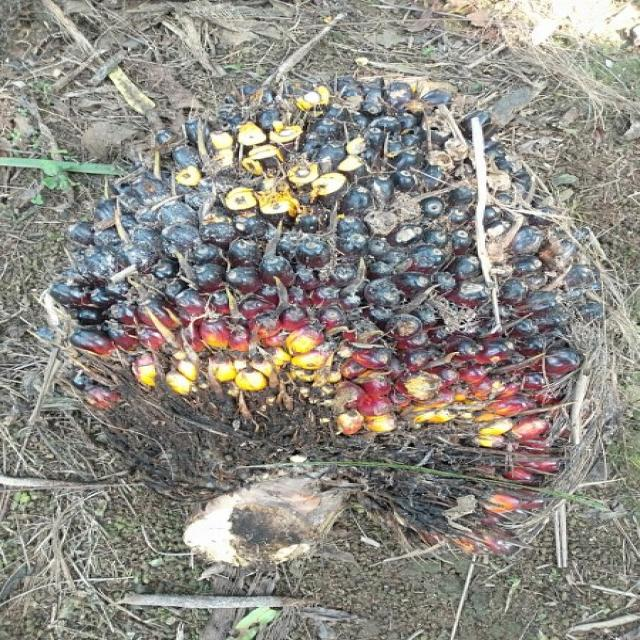fraksi 00: (29, 75, 620, 597)
